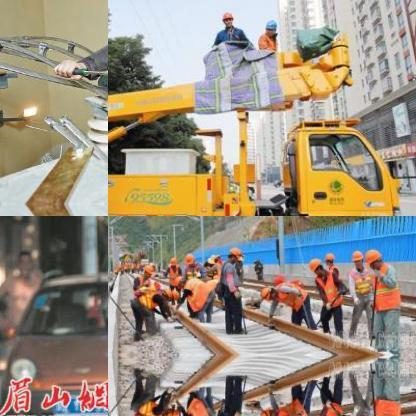Helmet: (363, 246, 383, 266), (306, 256, 324, 274), (348, 248, 364, 268), (262, 17, 278, 35), (219, 8, 234, 26), (223, 246, 242, 260), (258, 286, 274, 300), (171, 273, 187, 287), (140, 262, 154, 276), (182, 250, 194, 266), (257, 405, 275, 415), (323, 250, 333, 264), (159, 288, 171, 298), (159, 407, 172, 415), (166, 254, 174, 266)
